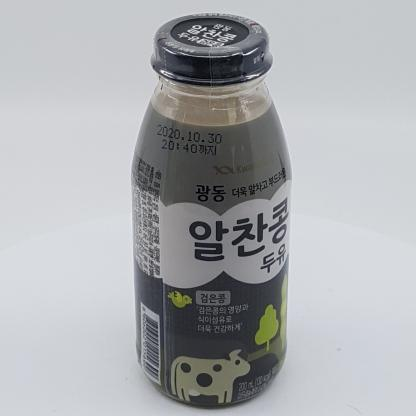--------200ML: (130, 12, 292, 405)
